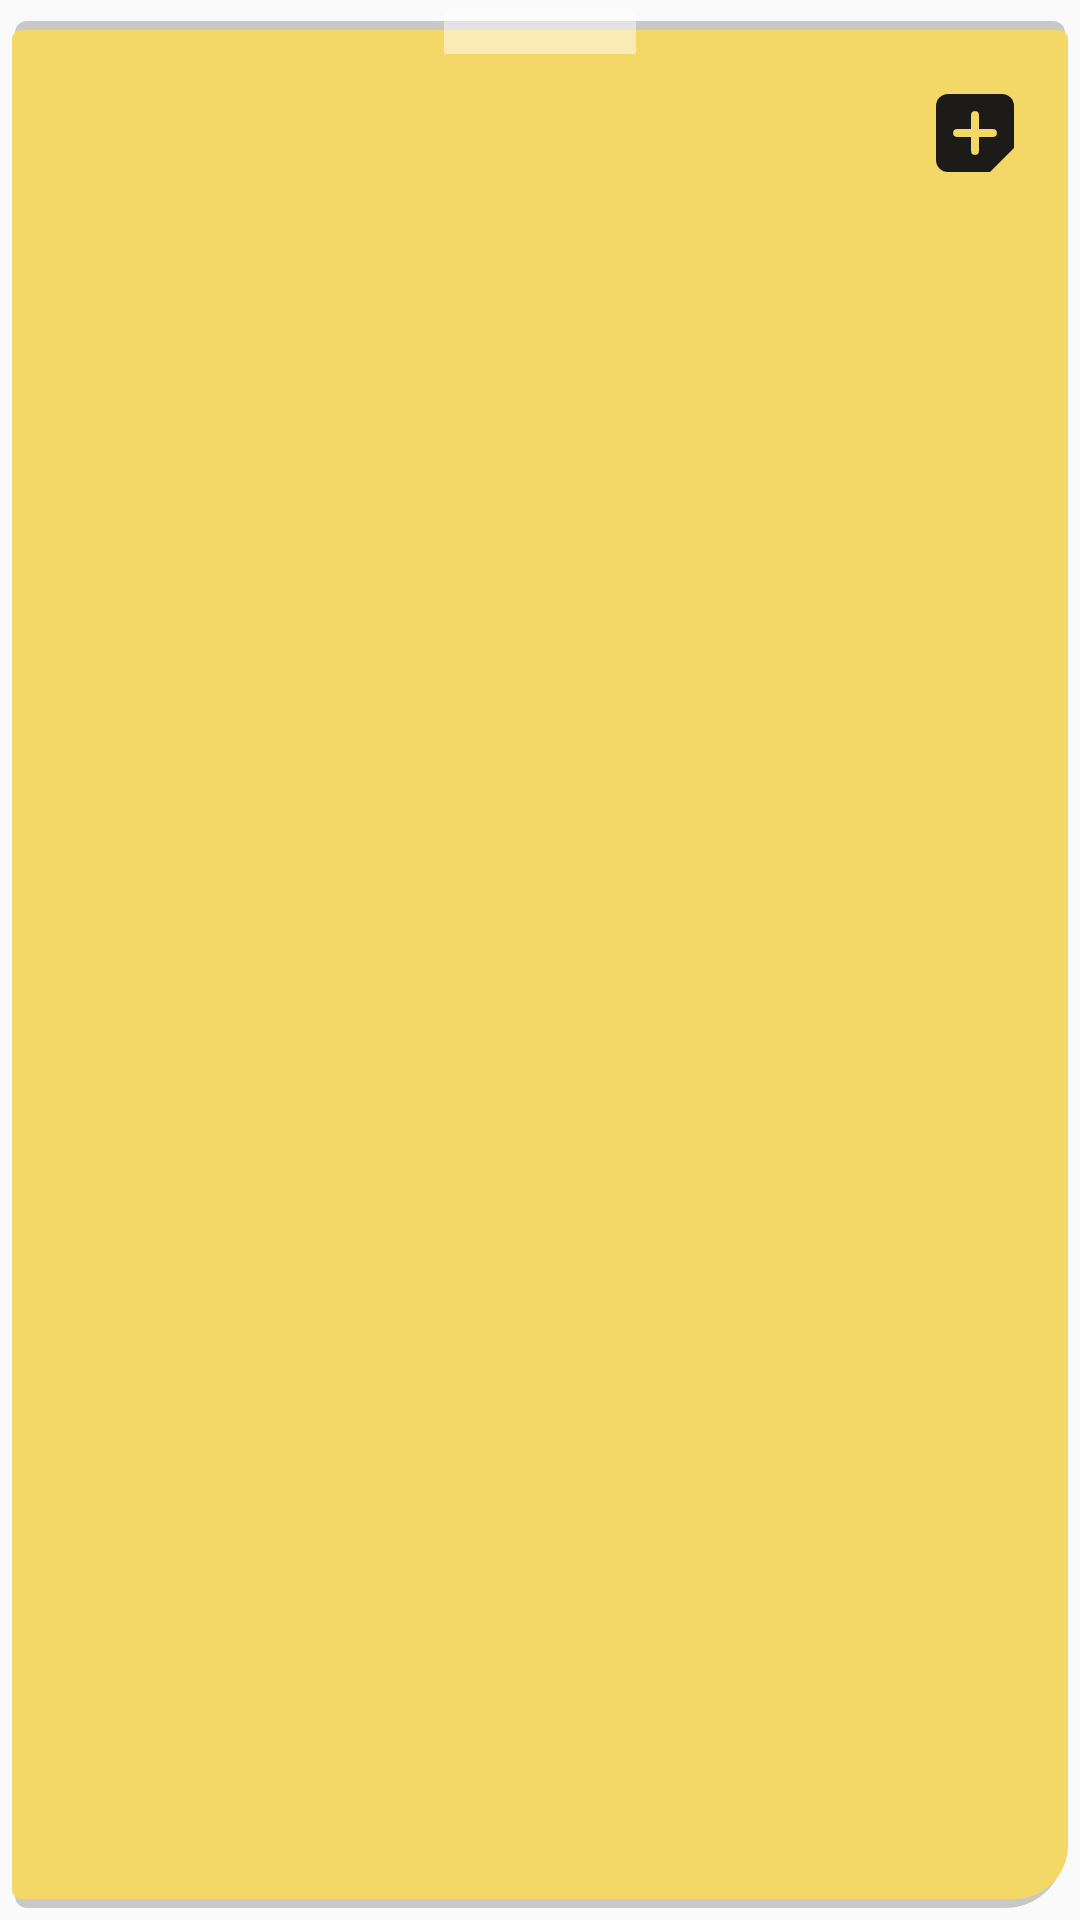

Where icons sit on this 1080w x 1920h app screen, as (x1, y1, x2, y2):
Ny note: (936, 94, 1014, 172)
